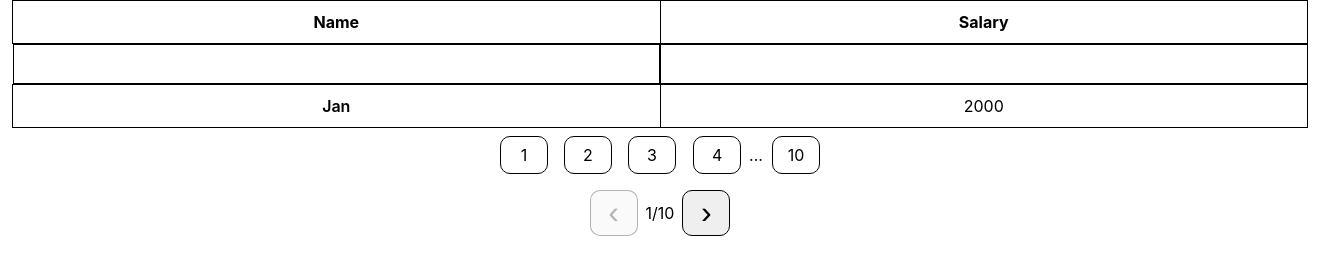
Test: TableSdk pagination › changing page and then showing next page's content
Expected: the text "Jan" is shown, left=12, top=84, right=660, bottom=128
Click the list item with test id "2/pageNumber/test/false" at (588, 155), box left=564, top=136, right=612, bottom=174
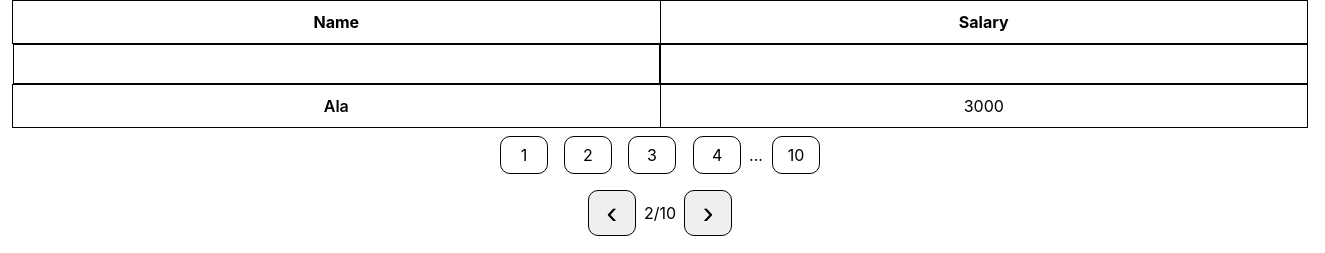
Result: the text "Jan" is gone
Result: the text "Ala" is shown at left=12, top=84, right=660, bottom=128
